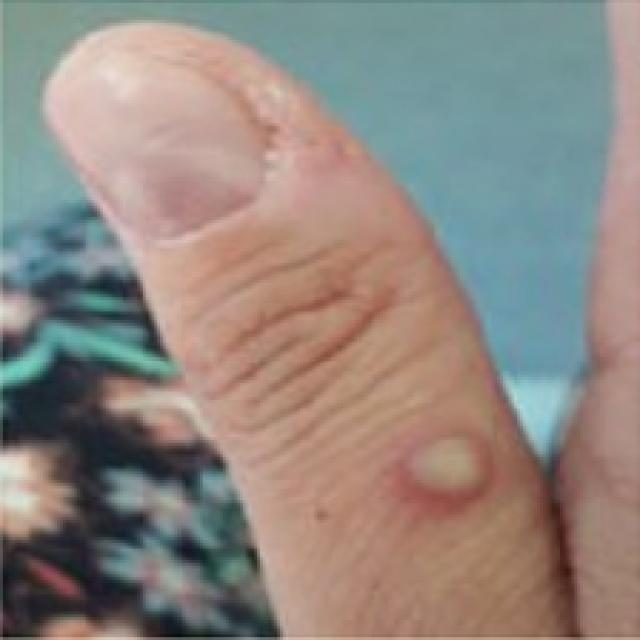Eczema: (398, 425, 497, 500)
